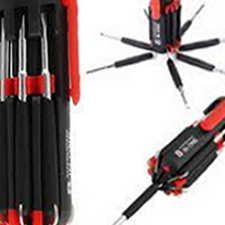screwdriver: (106, 93, 225, 225)
